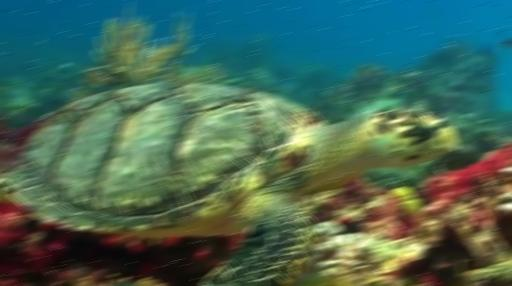Fish: (0, 84, 457, 285)
